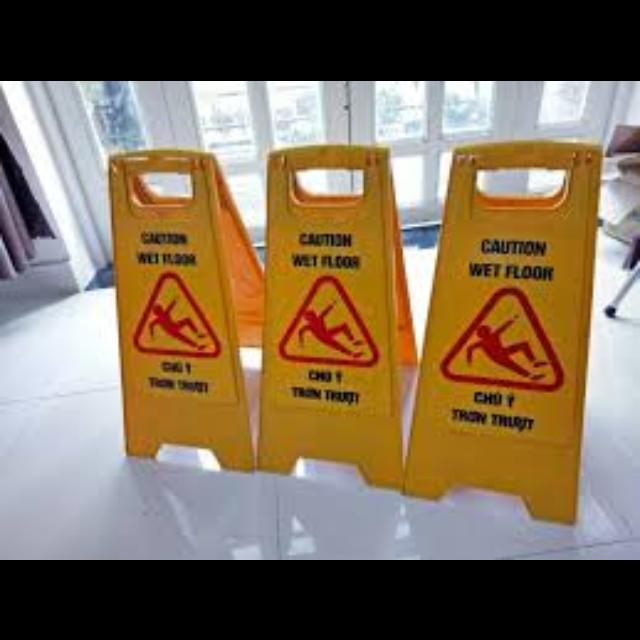slippery_floor: (111, 139, 596, 517)
